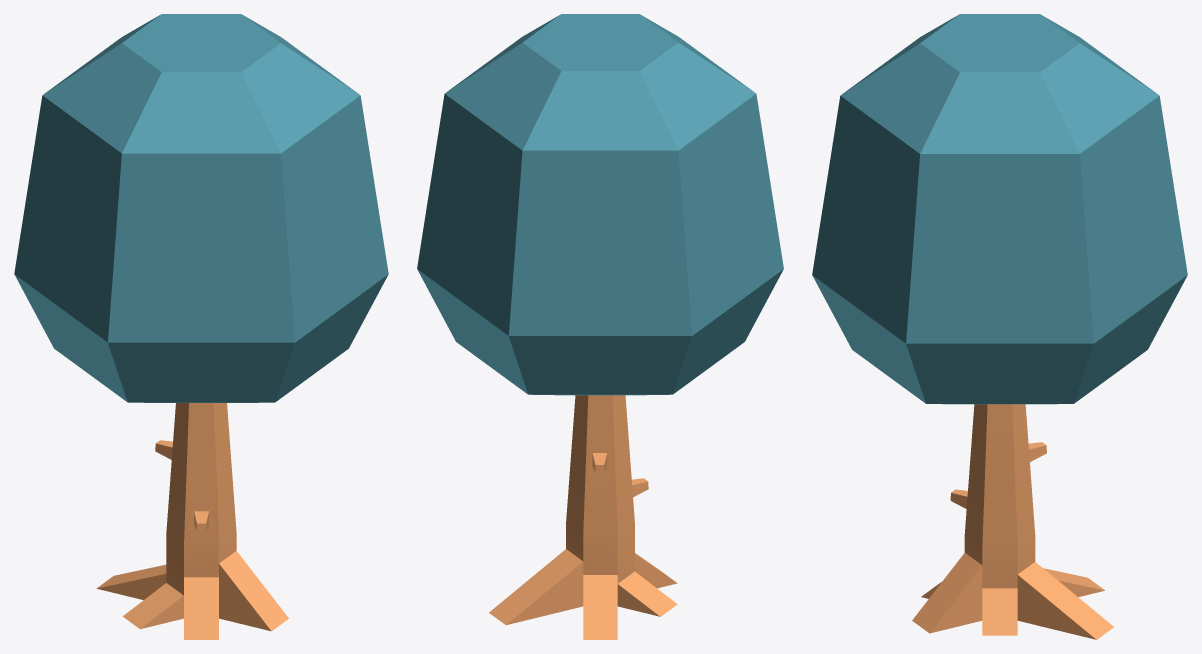
Rendered from tree_oak_dark.fbx.
The picture shows the model from 3 angles, left to right: view 1: azimuth 30°, elevation 25°; view 2: azimuth 150°, elevation 25°; view 3: azimuth 270°, elevation 25°; orthographic projection. The views are drawn at different scales.
Visible parts, largest first — view 1: tree_oak_dark; view 2: tree_oak_dark; view 3: tree_oak_dark.
Part boxes in pixels (x1,y1,x2,y2): tree_oak_dark: [14, 14, 388, 639]; tree_oak_dark: [417, 14, 783, 639]; tree_oak_dark: [812, 14, 1187, 639].
Bounding box in the file's own units: 6.41 × 12.26 × 7.4.
